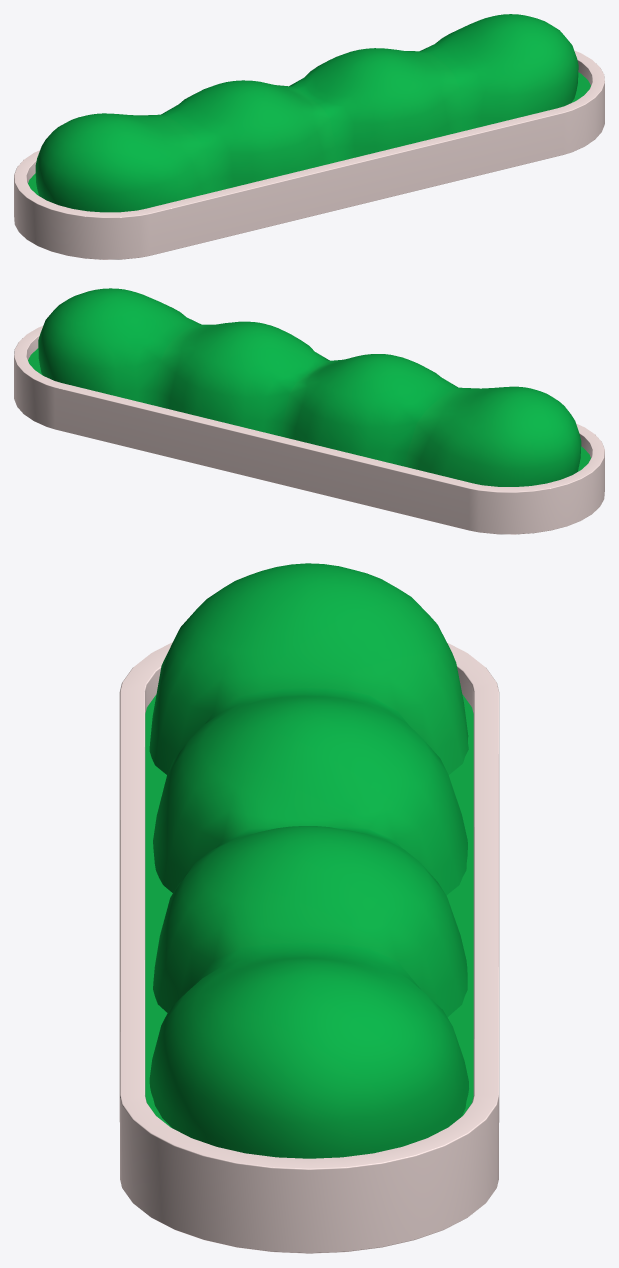
Rendered from City_4_Plant_1.glb.
The picture shows the model from 3 angles, top to bottom: view 1: azimuth 30°, elevation 25°; view 2: azimuth 150°, elevation 25°; view 3: azimuth 270°, elevation 25°; orthographic projection. The views are drawn at different scales.
Parts seen in each view (by area): view 1: City_4_Plant_1; view 2: City_4_Plant_1; view 3: City_4_Plant_1.
Boxes of the visible parts, bbox=[...] form: City_4_Plant_1: bbox=[14, 14, 604, 259]; City_4_Plant_1: bbox=[14, 288, 604, 534]; City_4_Plant_1: bbox=[119, 563, 499, 1253].
Bounding box in the file's own units: 6.17 × 1.04 × 1.79.
Materials: 1 (1 with a texture image).
